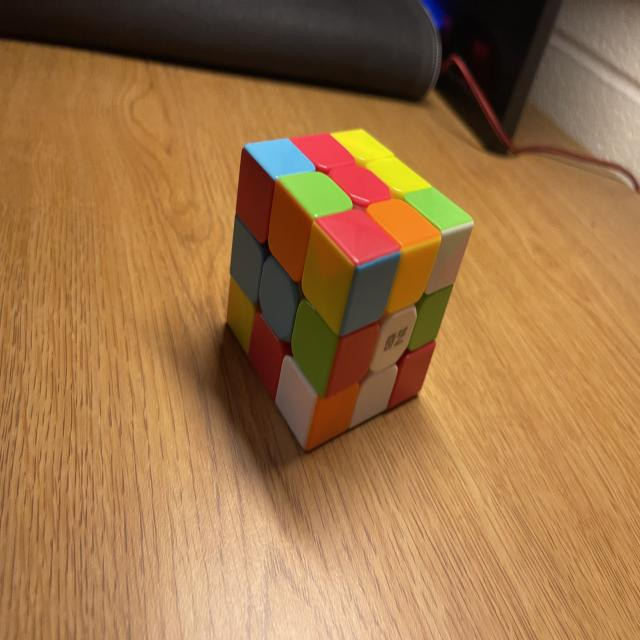Rubiks Cube: (223, 127, 473, 453)
